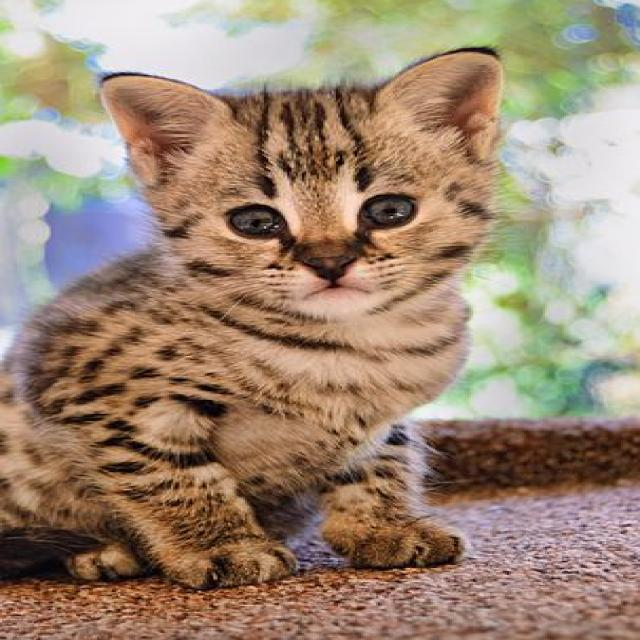Savannah: (0, 45, 511, 592)
